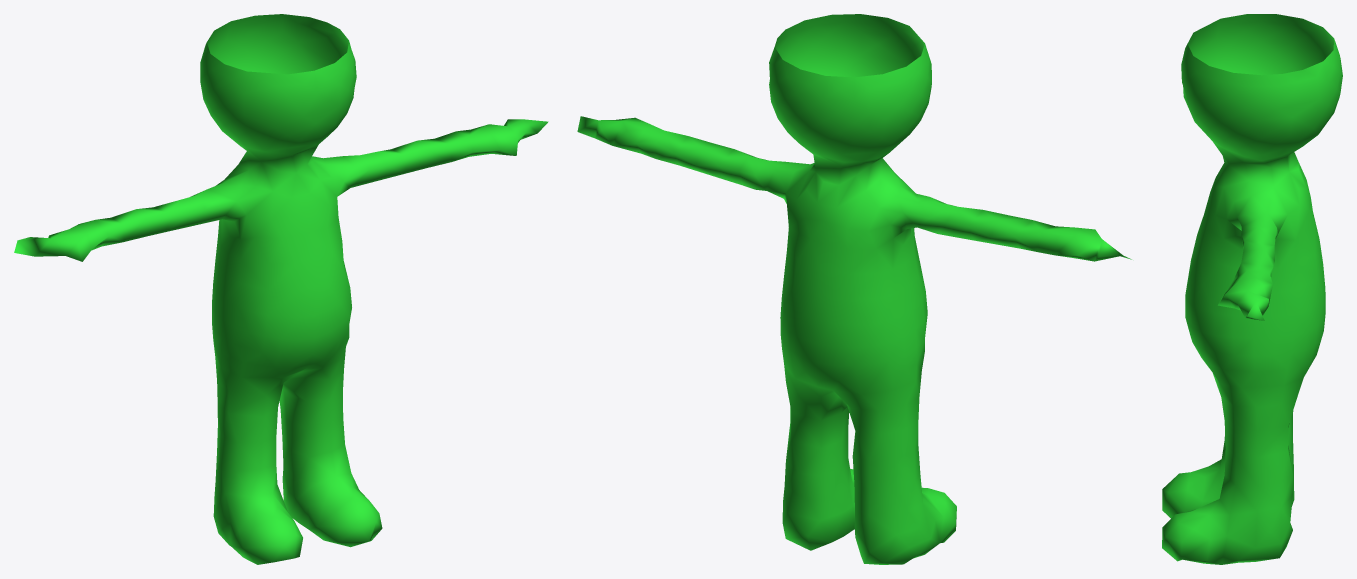
File: caracter.fbx
3 renders of one model, left to right at view 1: azimuth 30°, elevation 25°; view 2: azimuth 150°, elevation 25°; view 3: azimuth 270°, elevation 25°, orthographic. The views are drawn at different scales.
Visible parts, largest first — view 1: man; view 2: man; view 3: man.
Part boxes in pixels (box(x1,y1,x2,y2)): man: box(14, 14, 548, 564); man: box(577, 14, 1131, 564); man: box(1162, 14, 1342, 564).
Bounding box in the file's own units: 1294 × 1125 × 373.
